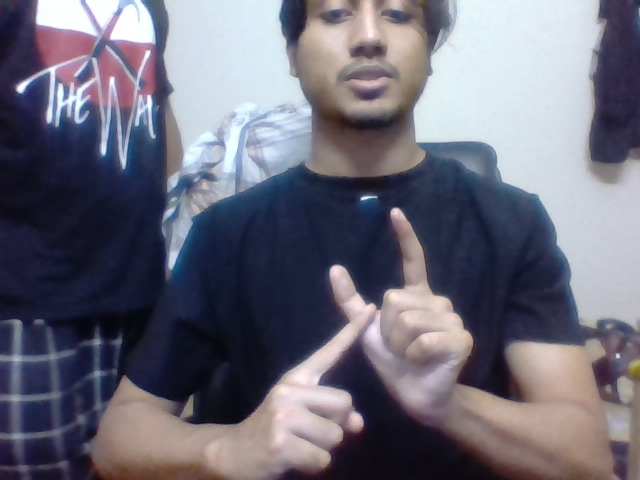Y: (315, 202, 432, 391)
